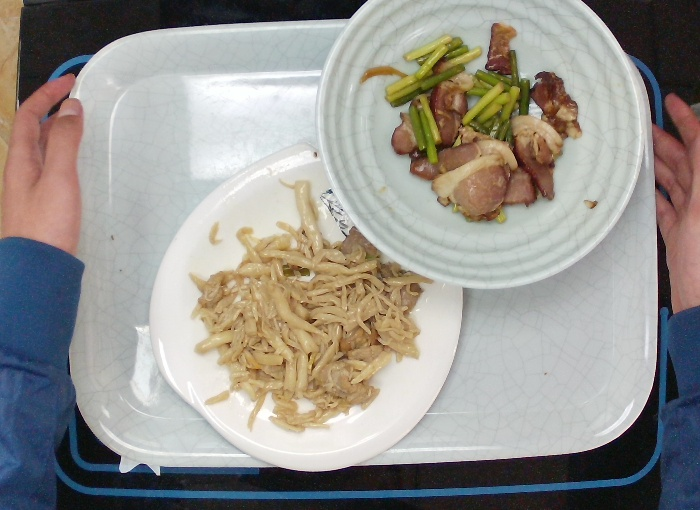JYsf-Da_Tang_Wan: (310, 1, 647, 292)
JYsf-Mian_Pan: (143, 132, 467, 476)
